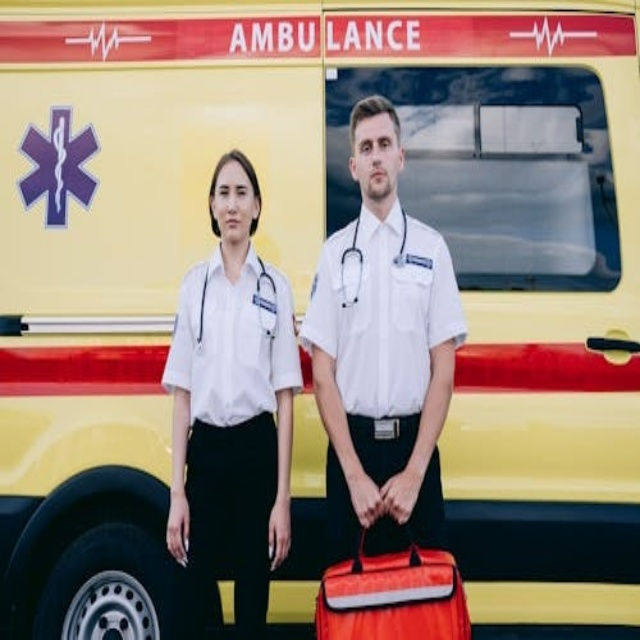Sin_gafas: (215, 171, 251, 206), (353, 129, 396, 154)
Sin_guantes: (262, 490, 294, 571), (165, 486, 197, 563), (343, 469, 383, 527), (383, 469, 421, 527)
Sin_mascara: (223, 213, 244, 240), (365, 167, 389, 190)
